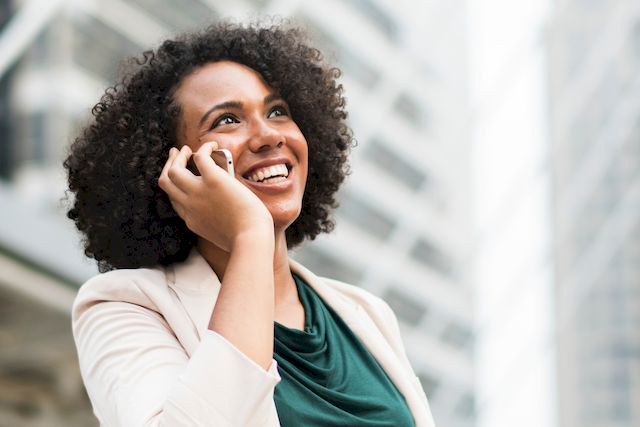phone: (162, 146, 241, 201)
talk: (155, 84, 318, 268)
